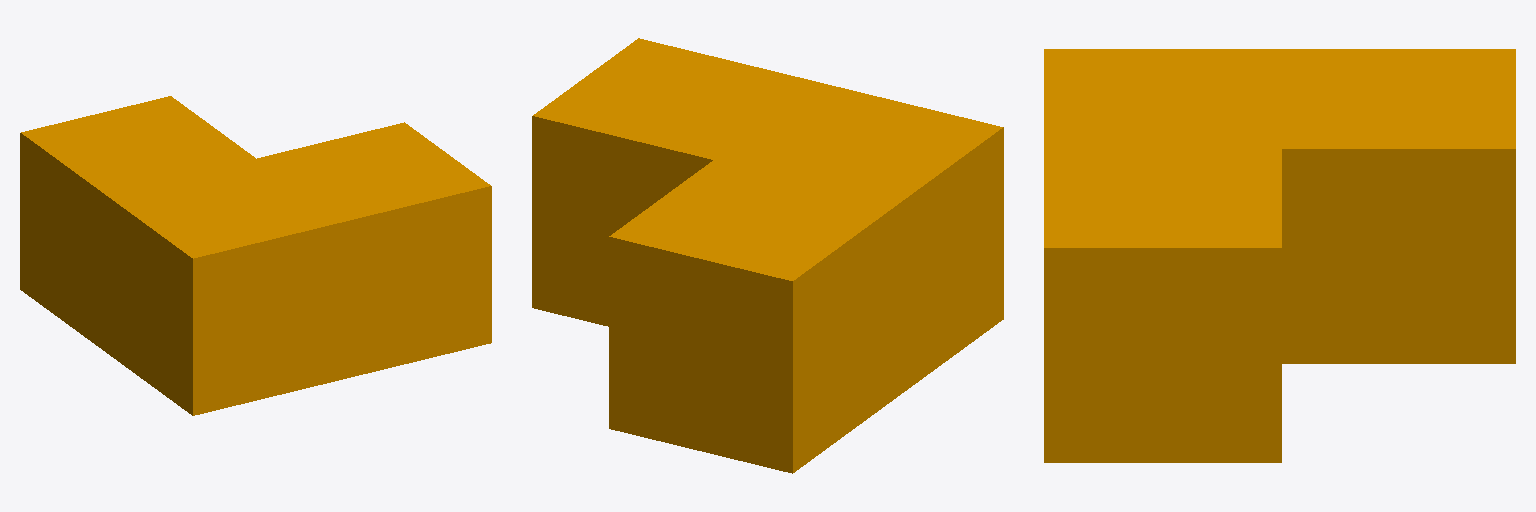
The robot description file, URDF, robot "2_2L_0":
<robot name="2_2L_0">
  <link name="link">
    <visual>
      <geometry>
        <mesh filename="2_2L_0.obj" scale="1 1 1"/>
      </geometry>
    </visual>
    <collision>
      <geometry>
        <mesh filename="2_2L_0.obj" scale="1 1 1"/>
      </geometry>
    </collision>
    <inertial>
      <mass value="1"/>
      <inertia ixx="1" iyy="1" izz="1" ixy="0" ixz="0" iyz="0"/>
      <origin xyz="0 0 0" rpy="0 0 0"/>
    </inertial>
  </link>
</robot>

--- What the picture shows (computed from the rendered views, not written in the file) ---
3 views of the same robot in one strip: view 1: azimuth 30°, elevation 25°; view 2: azimuth 150°, elevation 25°; view 3: azimuth 270°, elevation 25° (orthographic).
Model 2_2L_0 with 1 links and 0 joints (none), rooted at link, posed every joint at zero.
Visible links, largest first — view 1: link; view 2: link; view 3: link.
Link boxes in pixels (<box>): link: <box>20,96,491,415</box>; link: <box>532,38,1003,473</box>; link: <box>1044,49,1515,462</box>.
Size in the robot's own frame: 0.1179 by 0.1179 by 0.0594 metres.
Meshes: 1 distinct files referenced, 1 mesh visuals loaded (1 OBJ).